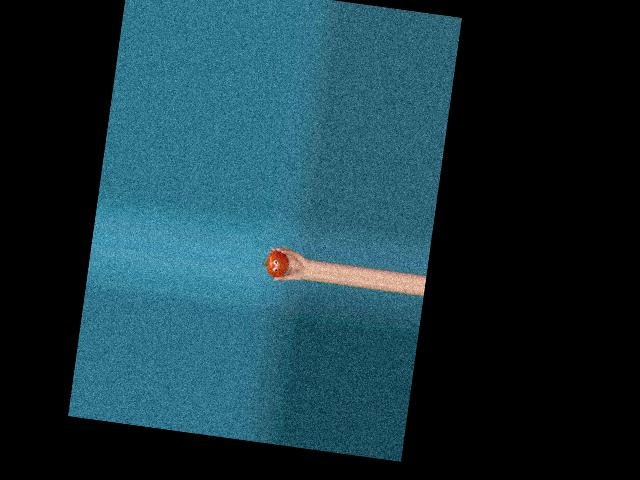tomato: (265, 249, 291, 279)
